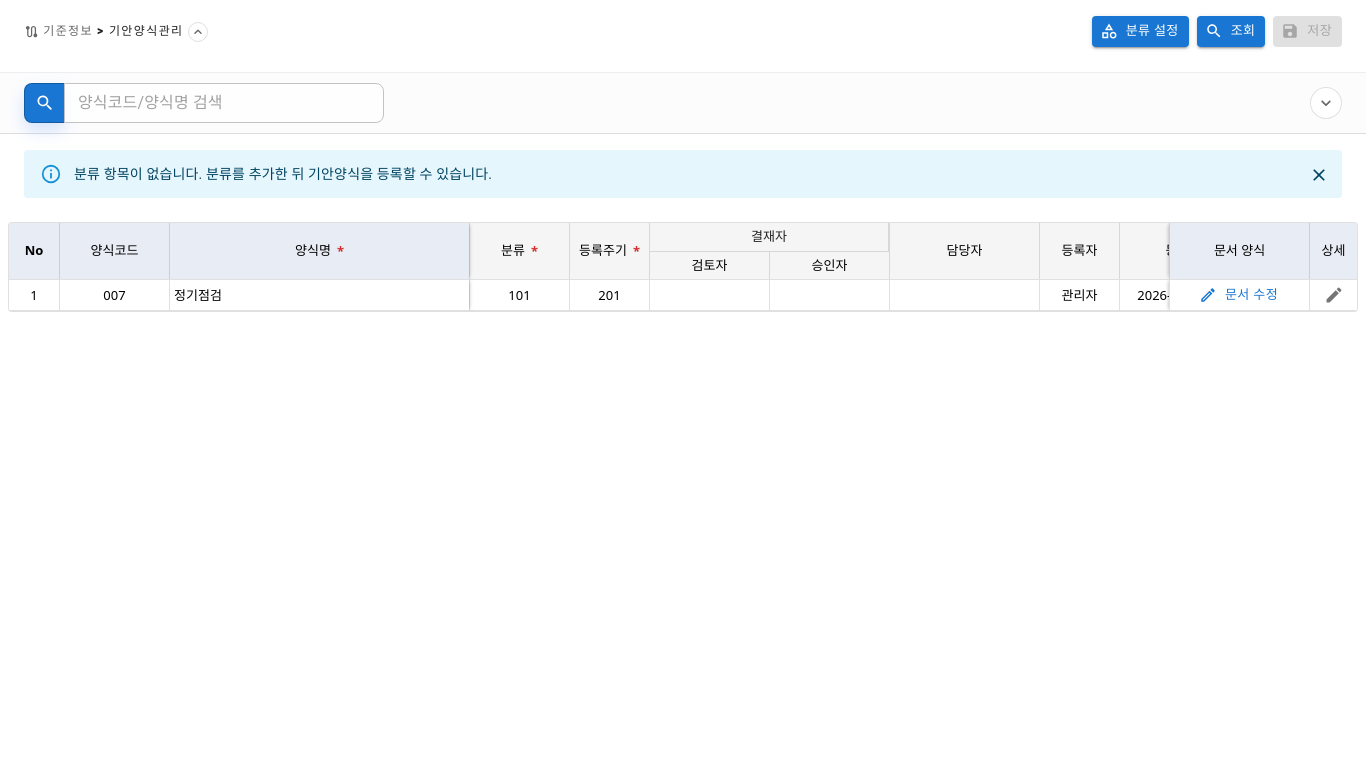
Scenario: DraftFormTemplateDialog › opens the selected row template dialog from the document action
The width and height of the screenshot is (1366, 768).
Expected: the column heading "문서 양식" is shown, [1169,223,1309,279]
Expected: the cell "정기점검" is shown, [169,279,469,311]
Click the button with aria-label "문서 수정: 정기점검": point(1239, 295) [1196,280,1283,311]
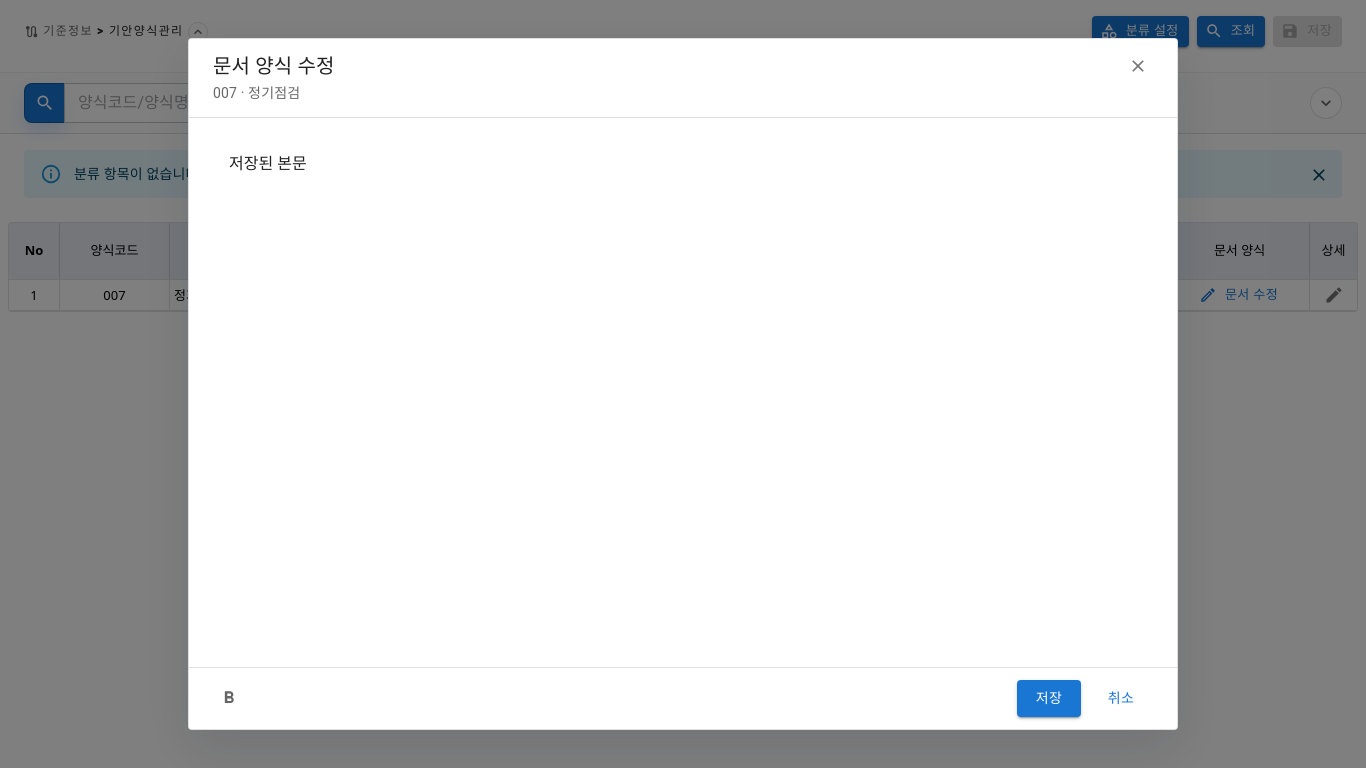
Expected: the dialog "문서 양식 수정" is shown
